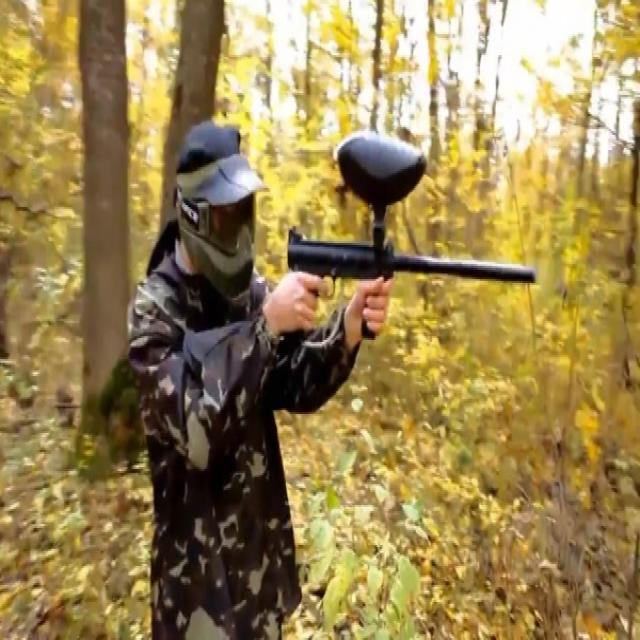rifle: (284, 226, 540, 349)
